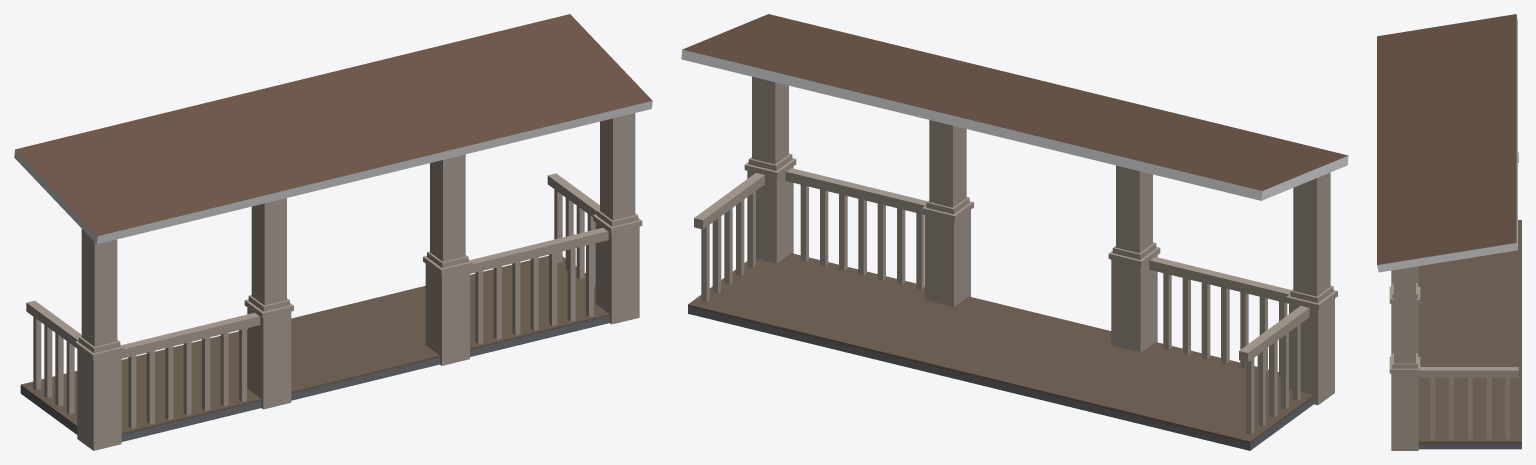
Rendered from Terrace4_C2.fbx.
3 views of the same model, side by side, from view 1: azimuth 30°, elevation 25°; view 2: azimuth 150°, elevation 25°; view 3: azimuth 270°, elevation 25° (orthographic). The views are drawn at different scales.
Parts seen in each view (by area): view 1: Terrace4_C2; view 2: Terrace4_C2; view 3: Terrace4_C2.
Boxes of the visible parts, x1=… form: Terrace4_C2: x1=14, y1=14, x2=652, y2=450; Terrace4_C2: x1=681, y1=14, x2=1348, y2=450; Terrace4_C2: x1=1377, y1=14, x2=1521, y2=450.
Size of the model in its own units: 6.5 by 2.78 by 1.74.
